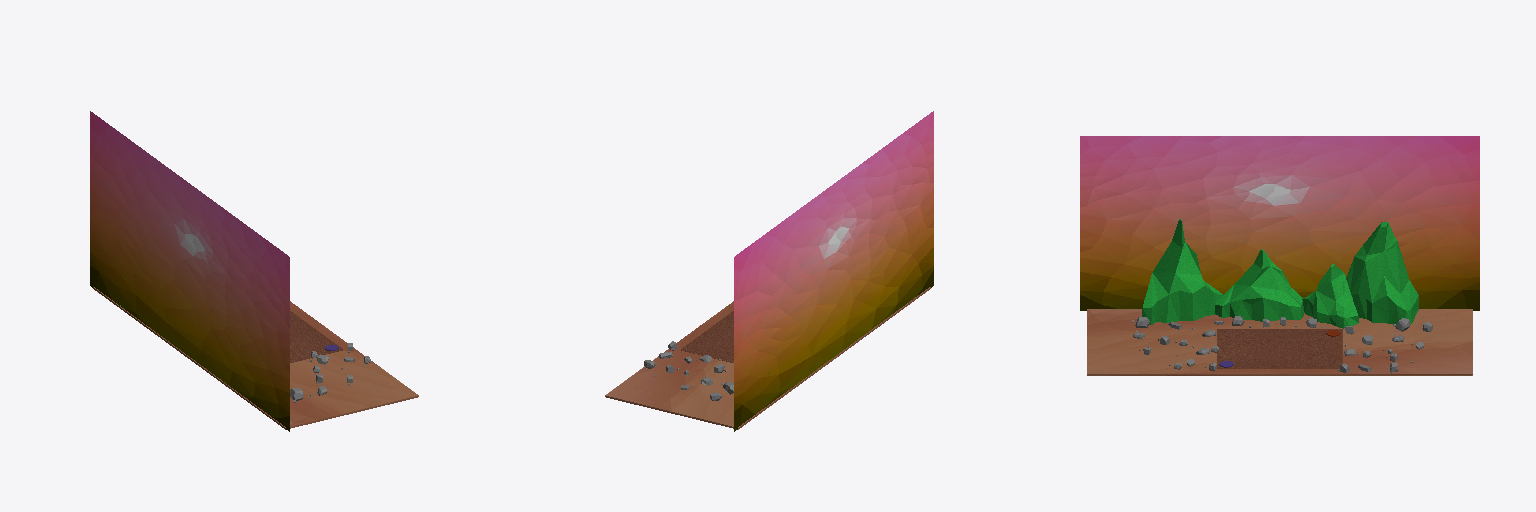
The picture shows the model from 3 angles: view 1: azimuth 30°, elevation 25°; view 2: azimuth 150°, elevation 25°; view 3: azimuth 270°, elevation 25°; orthographic projection.
Parts seen in each view (by area): view 1: pCube9, pCube1, pCube8; view 2: pCube9, pCube1, pCube8; view 3: pCube9, pCube1, pCube4, pCube8, pCube5, pCube2, pCube3.
Boxes of the visible parts, x1,y1,x2,y2 form: pCube9: [90, 111, 289, 431]; pCube1: [93, 287, 418, 429]; pCube8: [290, 311, 342, 362]; pCube9: [734, 111, 933, 431]; pCube1: [605, 287, 930, 429]; pCube8: [681, 311, 733, 362]; pCube9: [1080, 136, 1479, 310]; pCube1: [1087, 309, 1472, 375]; pCube4: [1346, 222, 1418, 324]; pCube8: [1217, 329, 1342, 368]; pCube5: [1142, 219, 1222, 324]; pCube2: [1215, 249, 1303, 321]; pCube3: [1302, 264, 1358, 328].
Size of the model in its own units: 57.72 by 73.03 by 150.
13 materials, 4 textured.